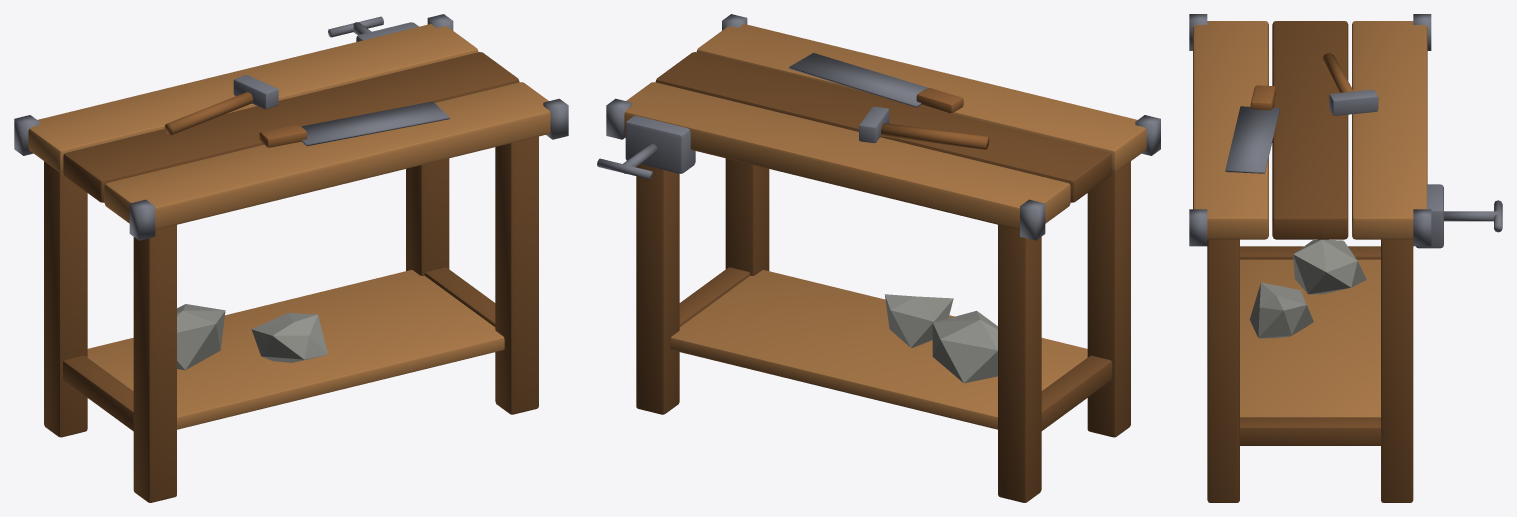
The model's file is workbench.glb.
3 views of the same model, side by side, from view 1: azimuth 30°, elevation 25°; view 2: azimuth 150°, elevation 25°; view 3: azimuth 270°, elevation 25° (orthographic). The views are drawn at different scales.
Parts seen in each view (by area): view 1: Workbench; view 2: Workbench; view 3: Workbench.
Part boxes in pixels (<box>): Workbench: <box>14,14,568,502</box>; Workbench: <box>597,14,1160,502</box>; Workbench: <box>1189,14,1502,502</box>.
Bounding box in the file's own units: 1.33 × 0.95 × 0.867.
